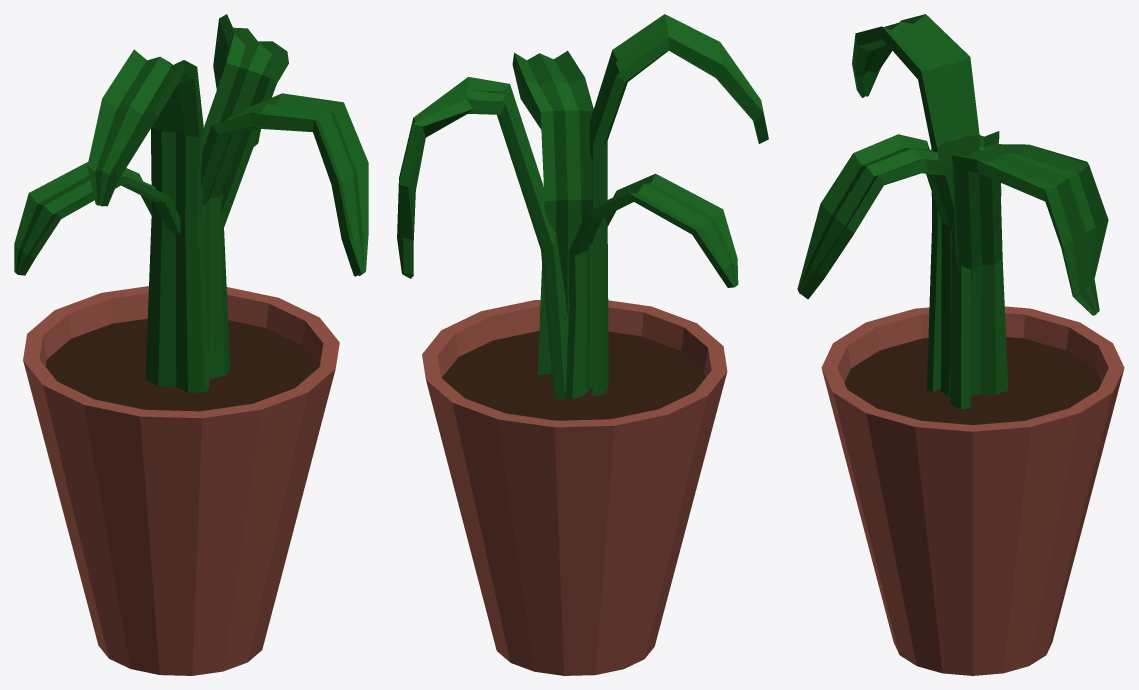
File: plant-01.fbx
The picture shows the model from 3 angles, left to right: view 1: azimuth 30°, elevation 25°; view 2: azimuth 150°, elevation 25°; view 3: azimuth 270°, elevation 25°; orthographic projection. The views are drawn at different scales.
Parts seen in each view (by area): view 1: Cylinder, Plane.001, Plane.002, Plane.003, Plane; view 2: Cylinder, Plane.003, Plane.001, Plane.002, Plane; view 3: Cylinder, Plane.003, Plane.002, Plane.001.
Part boxes in pixels (x1,y1,x2,y2): Cylinder: (23, 286, 339, 675); Plane.001: (87, 49, 209, 392); Plane.002: (200, 93, 368, 379); Plane.003: (204, 14, 288, 378); Plane: (14, 162, 180, 275); Cylinder: (422, 300, 727, 675); Plane.003: (397, 77, 568, 399); Plane.001: (589, 14, 768, 395); Plane.002: (512, 50, 593, 375); Plane: (565, 173, 738, 399); Cylinder: (821, 306, 1124, 675); Plane.003: (948, 144, 1108, 396); Plane.002: (797, 134, 970, 409); Plane.001: (852, 14, 979, 392).
Size of the model in its own units: 130 by 257 by 128.
